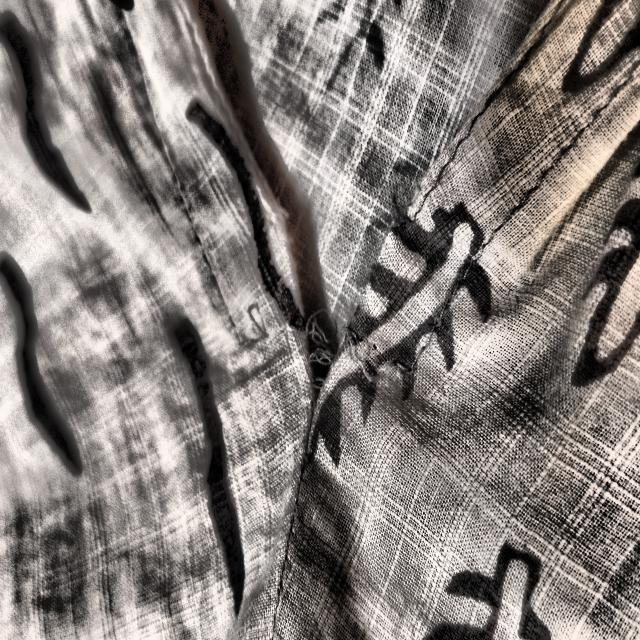gray stitch: (295, 305, 393, 408)
